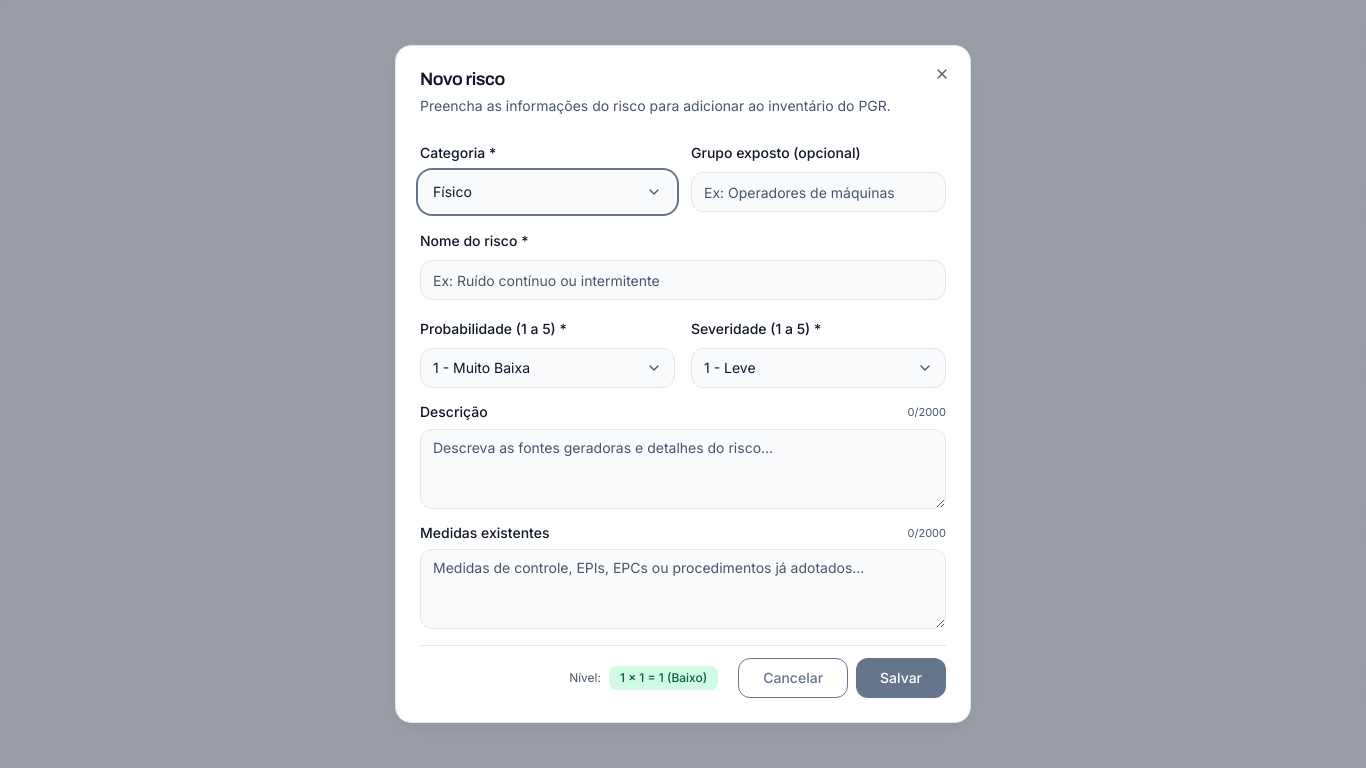
Test: RiscoDialog › bloqueia submit com nome menor que 3 caracteres
Type "ab" into the field with placeholder "Ex: Ruído contínuo ou intermitente" at {"x": 683, "y": 280}, box top-left (420, 260), bottom-right (946, 300)
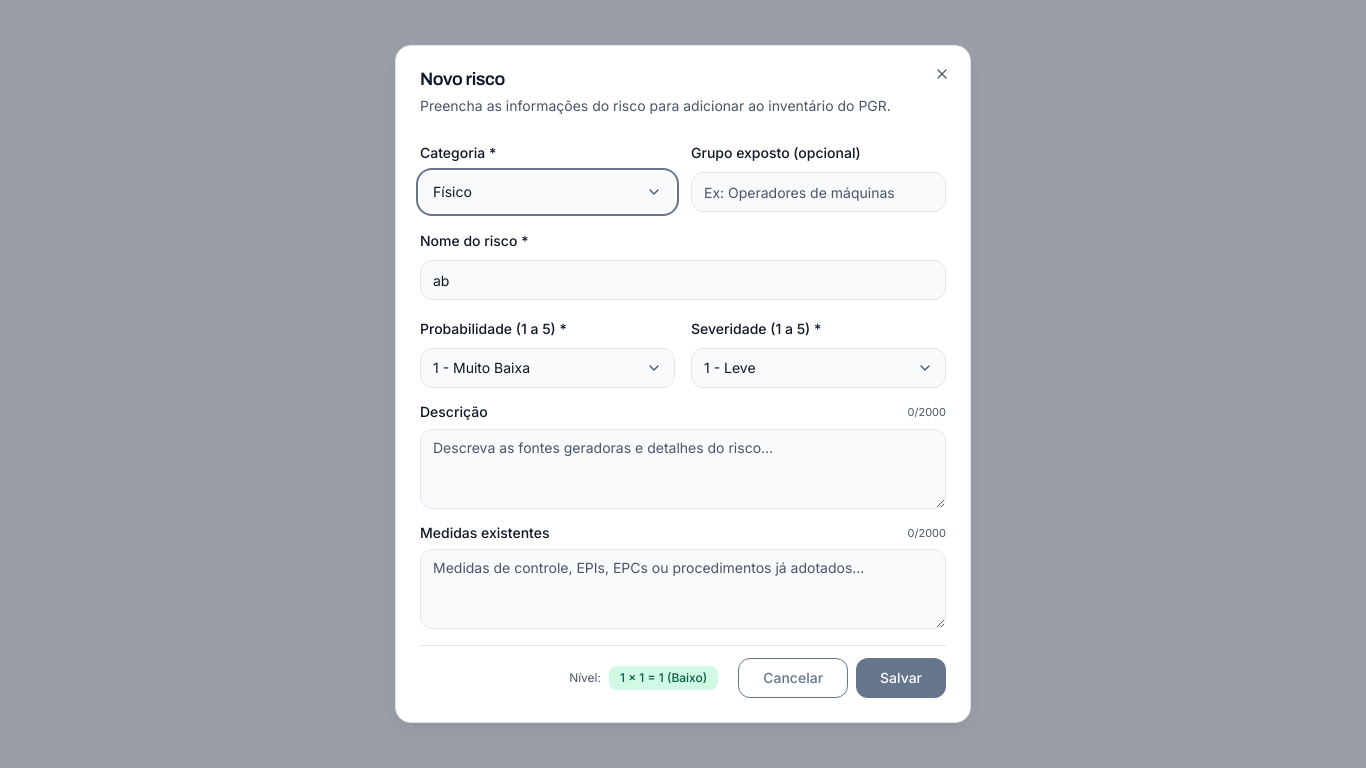
Click the button "Salvar" at {"x": 901, "y": 678}, box top-left (856, 658), bottom-right (946, 698)
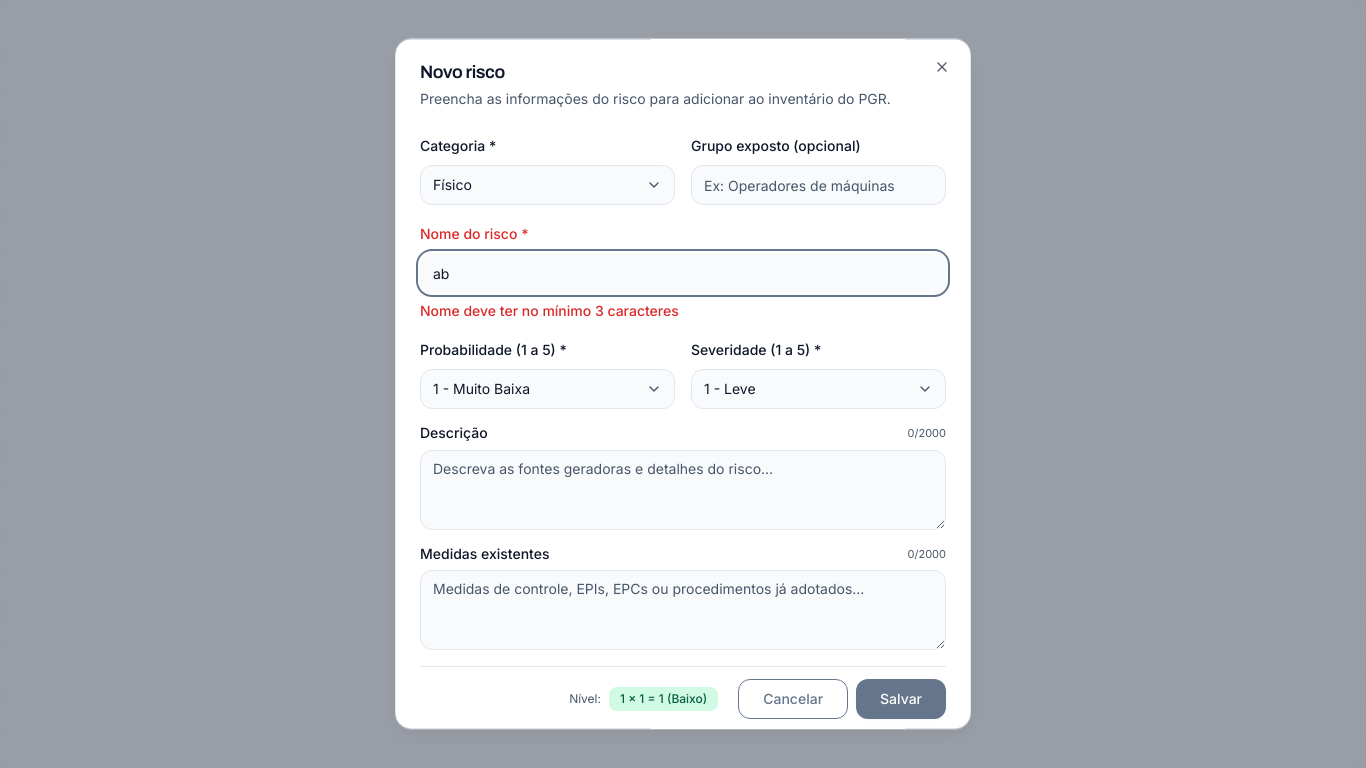
Expected: the text "Nome deve ter no mínimo 3 caracteres" is shown, top-left (420, 302), bottom-right (679, 319)
